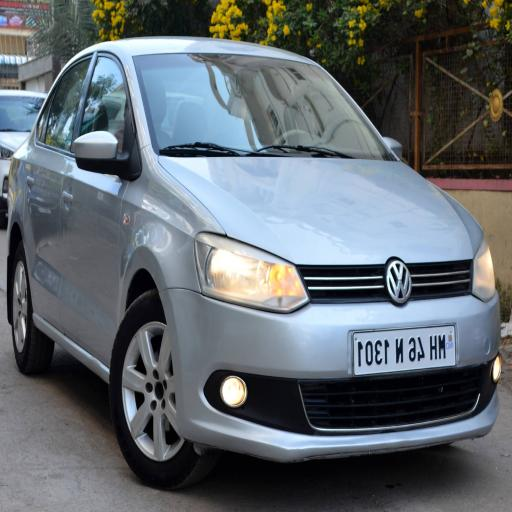License: (345, 316, 456, 374)
